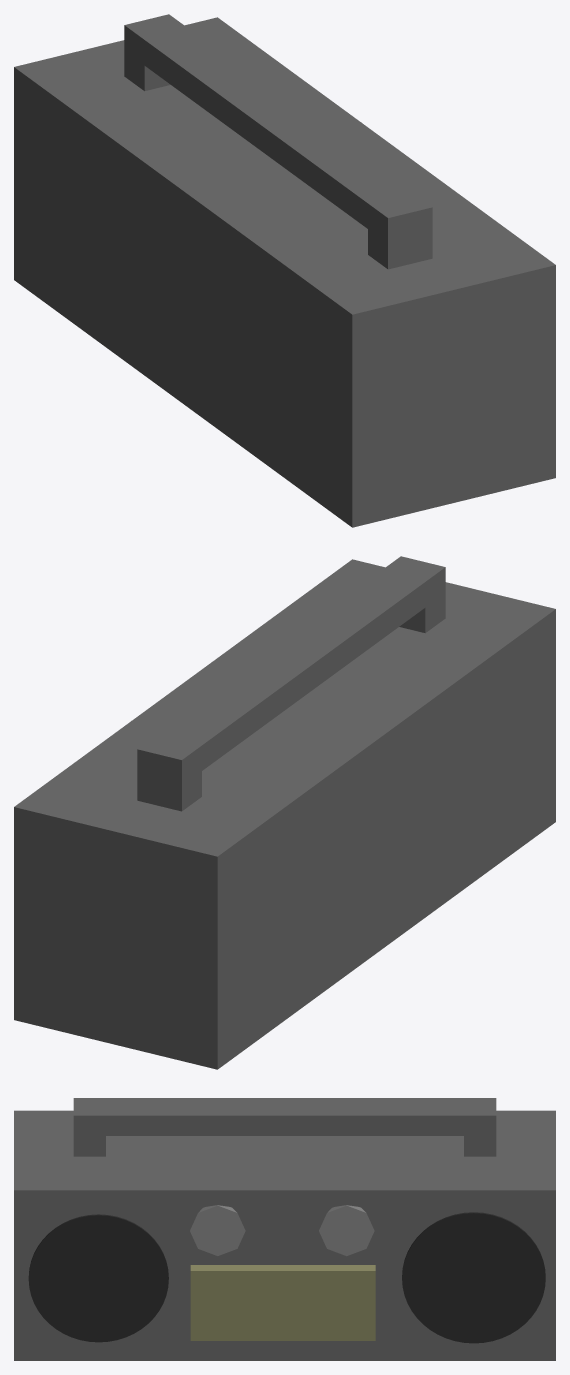
Rendered from Jukebox.fbx.
3 views of the same model, one above another, from view 1: azimuth 30°, elevation 25°; view 2: azimuth 150°, elevation 25°; view 3: azimuth 270°, elevation 25° (orthographic). The views are drawn at different scales.
Parts seen in each view (by area): view 1: Cube; view 2: Cube; view 3: Cube, BezierCircle.001, BezierCircle, Cube.001, Sphere.001, Sphere.
Part boxes in pixels (box(x1,y1,x2,y2)): Cube: box(14, 14, 555, 527); Cube: box(14, 556, 555, 1069); Cube: box(14, 1098, 555, 1360); BezierCircle.001: box(402, 1212, 545, 1343); BezierCircle: box(28, 1214, 168, 1342); Cube.001: box(190, 1265, 375, 1340); Sphere.001: box(319, 1205, 374, 1256); Sphere: box(190, 1205, 245, 1255).
Size of the model in its own units: 215 by 248 by 576.
